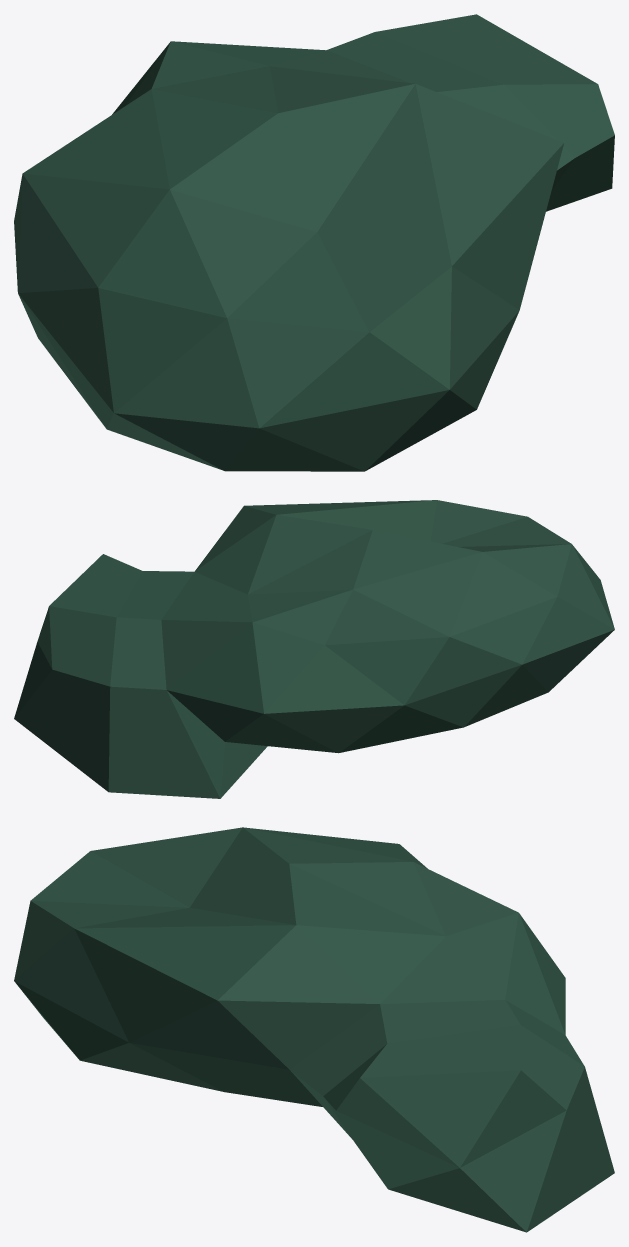
3 renders of one model, top to bottom at view 1: azimuth 30°, elevation 25°; view 2: azimuth 150°, elevation 25°; view 3: azimuth 270°, elevation 25°, orthographic. The views are drawn at different scales.
Visible parts, largest first — view 1: Icosphere; view 2: Icosphere; view 3: Icosphere.
Part boxes in pixels (x1,y1,x2,y2): Icosphere: (14,14,614,471); Icosphere: (14,500,614,798); Icosphere: (14,827,614,1232).
Bounding box in the file's own units: 1.93 × 0.8144 × 1.9.
